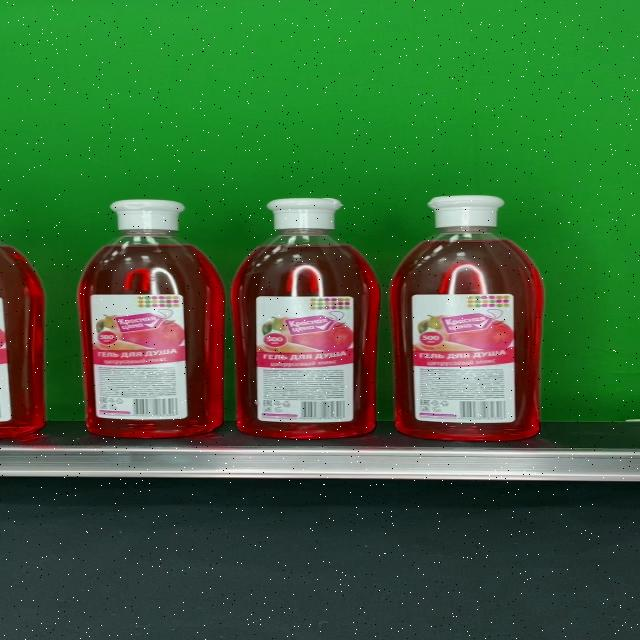Bottle: (389, 195, 544, 442), (230, 197, 378, 439), (77, 198, 223, 438)
Cap: (426, 196, 506, 228), (266, 197, 344, 229), (110, 199, 185, 231)
